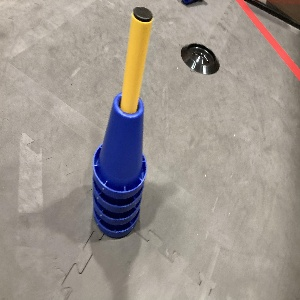Blue_4: (92, 91, 146, 238)
